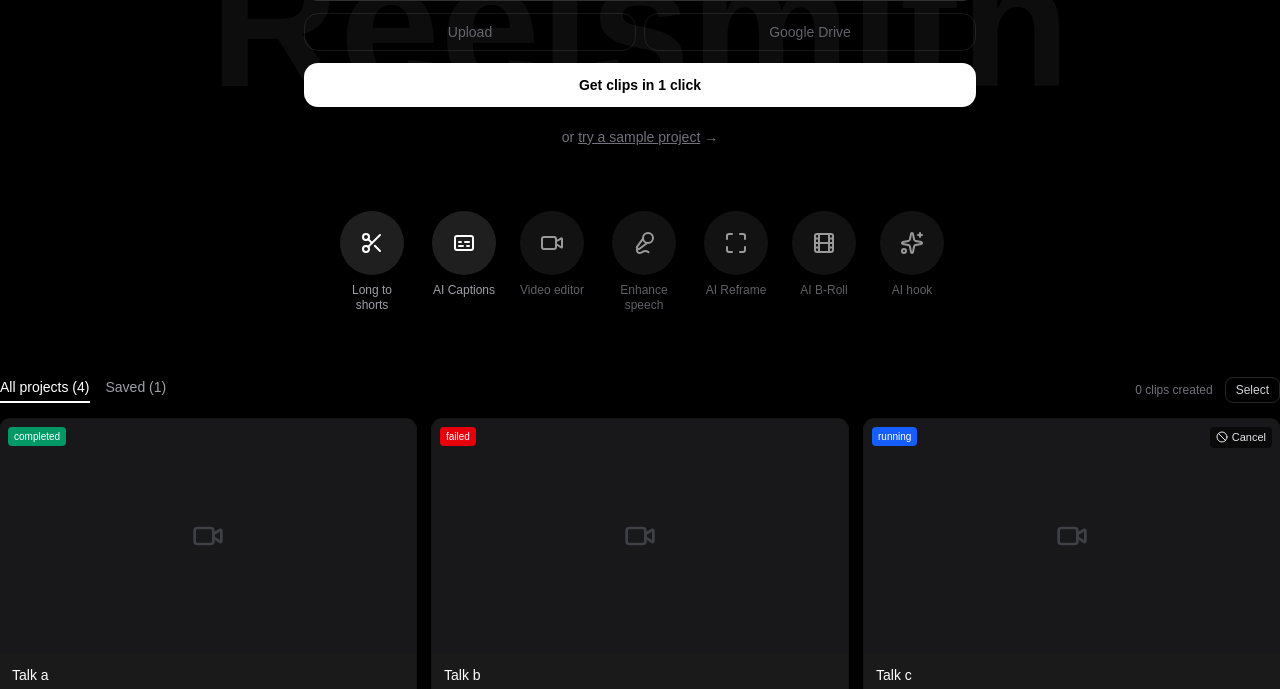
Test: home page: select and delete › leaving select mode clears the selection
Expected: the text "Talk a" is shown, x1=12 y1=667 x2=49 y2=683
Click the button "Select": (1252, 390) x1=1225 y1=377 x2=1279 y2=403
(page scrolled)
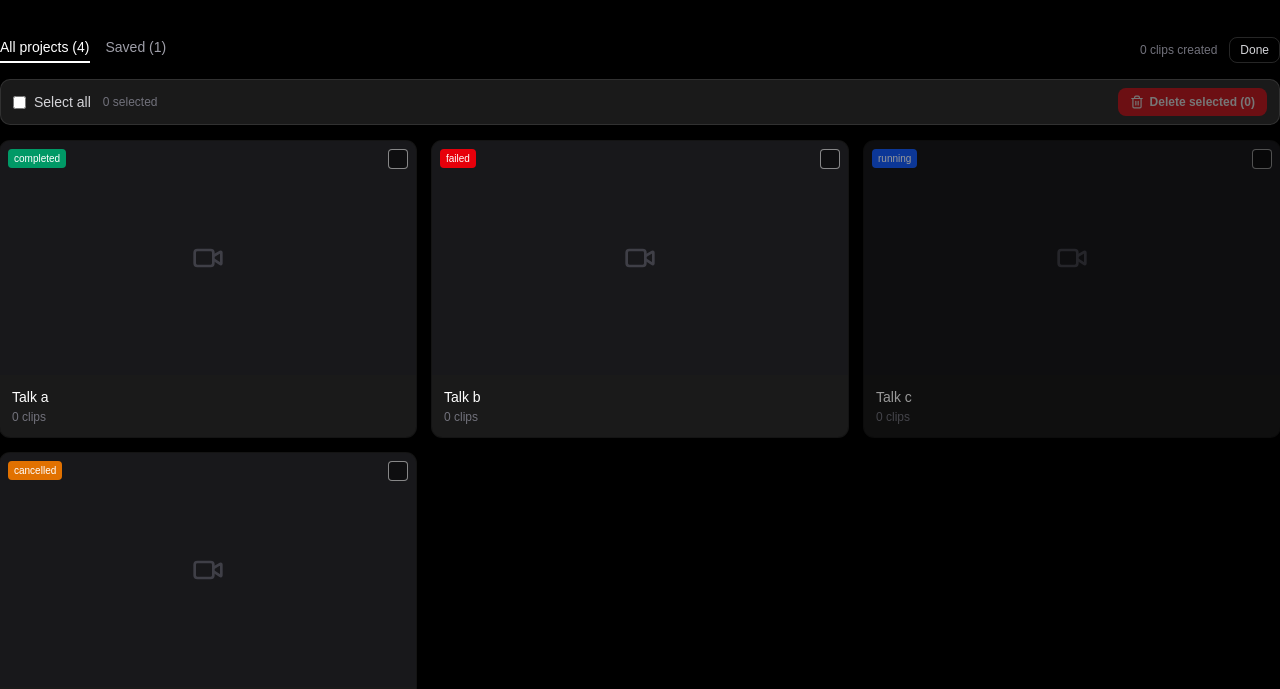
Click the text "Talk a": (208, 289) x1=0 y1=141 x2=416 y2=437
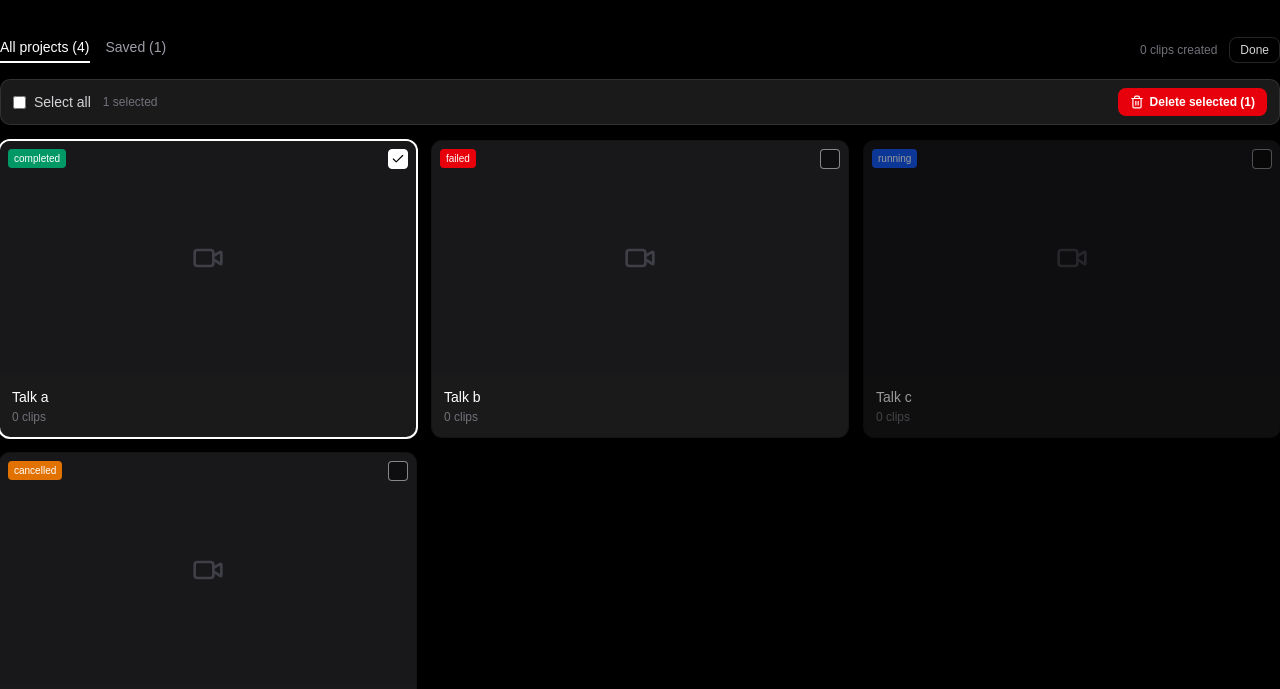
Click the button "Done": (1255, 50) x1=1229 y1=37 x2=1279 y2=63
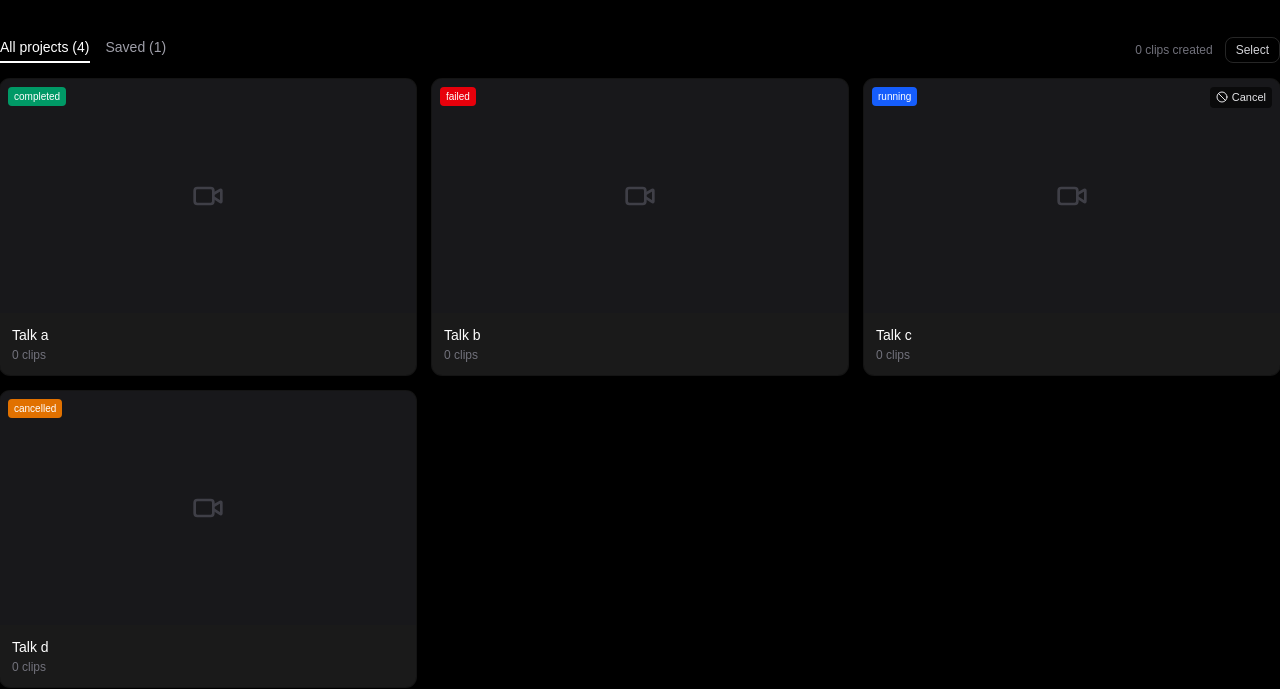
Click the button "Select": (1252, 50) x1=1225 y1=37 x2=1279 y2=63
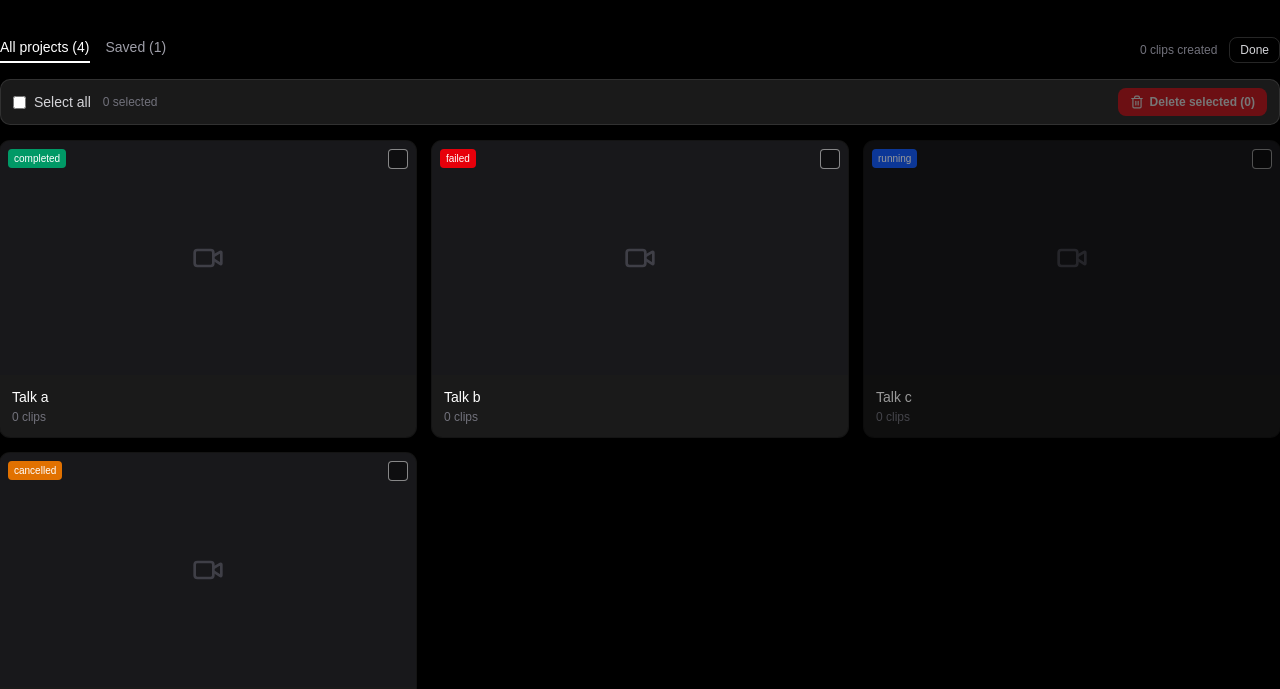
Now the button "Delete selected (0)" is shown, box x1=1118 y1=88 x2=1267 y2=116
